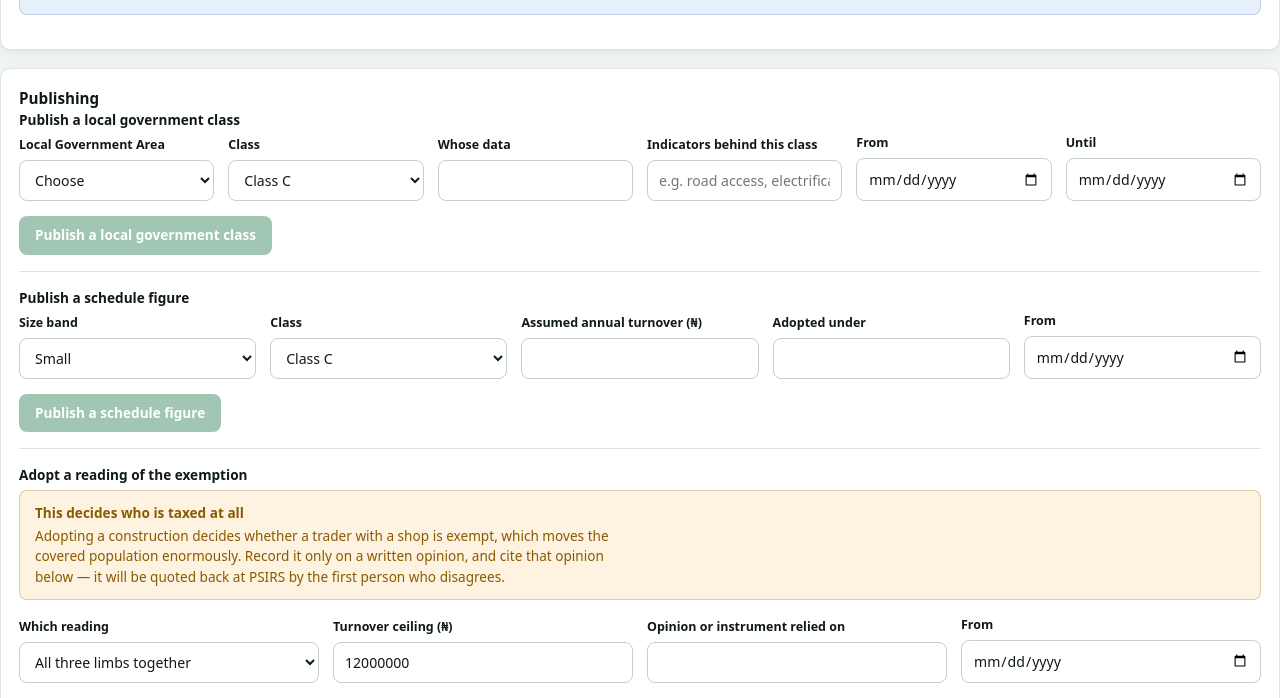
publishing › will not publish a figure with no instrument named
(page scrolled)
Expected: the button "Publish a schedule figure" is shown, [19, 394, 221, 432]
Type "2880000" into the field labelled "Assumed annual turnover (₦)" at point(640, 358), box [521, 338, 759, 379]
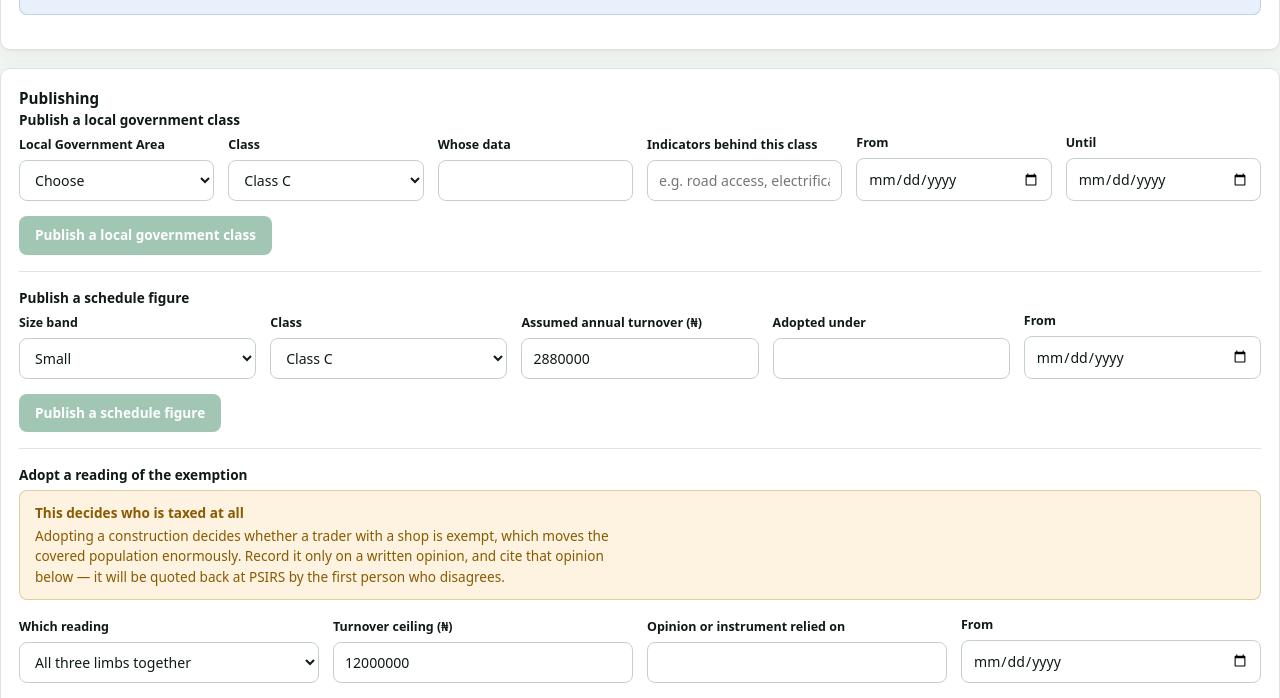
Type "2026-01-01" into the 2nd date field labelled "From" at point(1142, 357), box [1024, 336, 1261, 379]
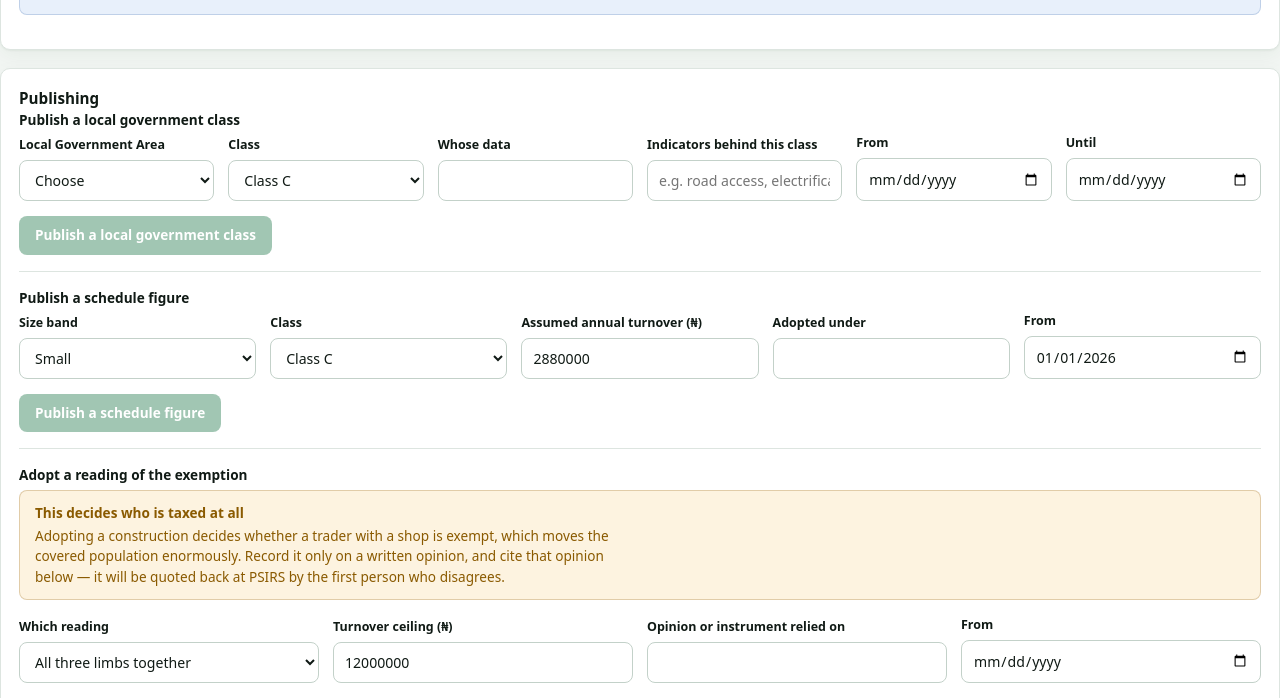
Expected: the button "Publish a schedule figure" is disabled, [19, 394, 221, 432]
Type "Presumptive Assessment Regulation 2026" into the field labelled "Adopted under" at point(891, 358), box [773, 338, 1010, 379]
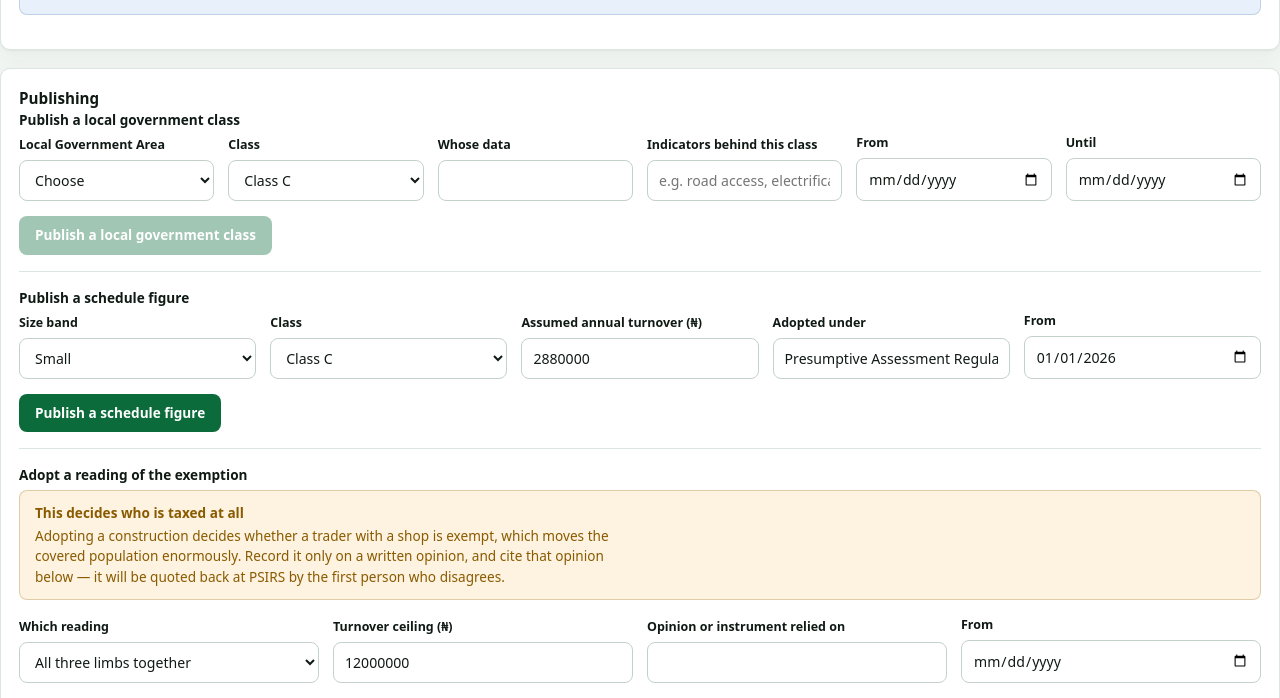
Result: the button "Publish a schedule figure" is enabled at [19, 394, 221, 432]
